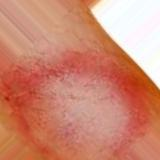Tick: (16, 61, 143, 159)
